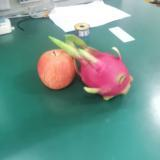apple: (38, 49, 77, 90)
pitaya: (52, 35, 133, 100)
